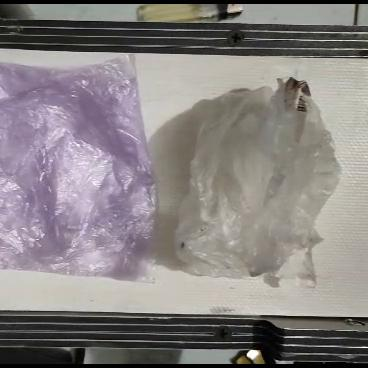Plastik: (0, 54, 161, 284), (175, 77, 341, 286)
